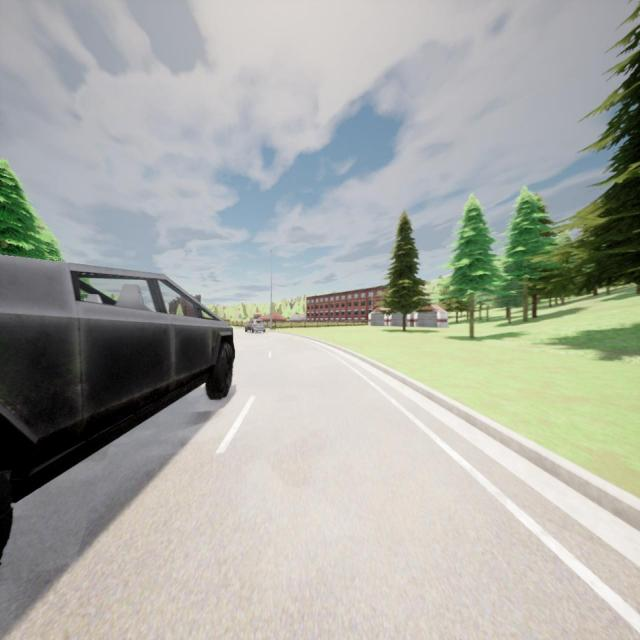Vehicle: (0, 255, 234, 554), (244, 318, 266, 334)
